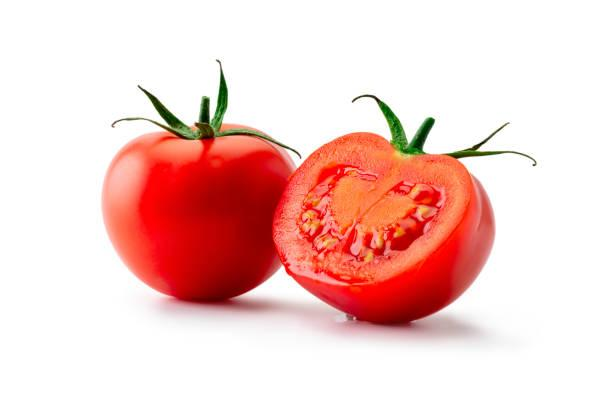Tomato: (100, 121, 505, 315)
